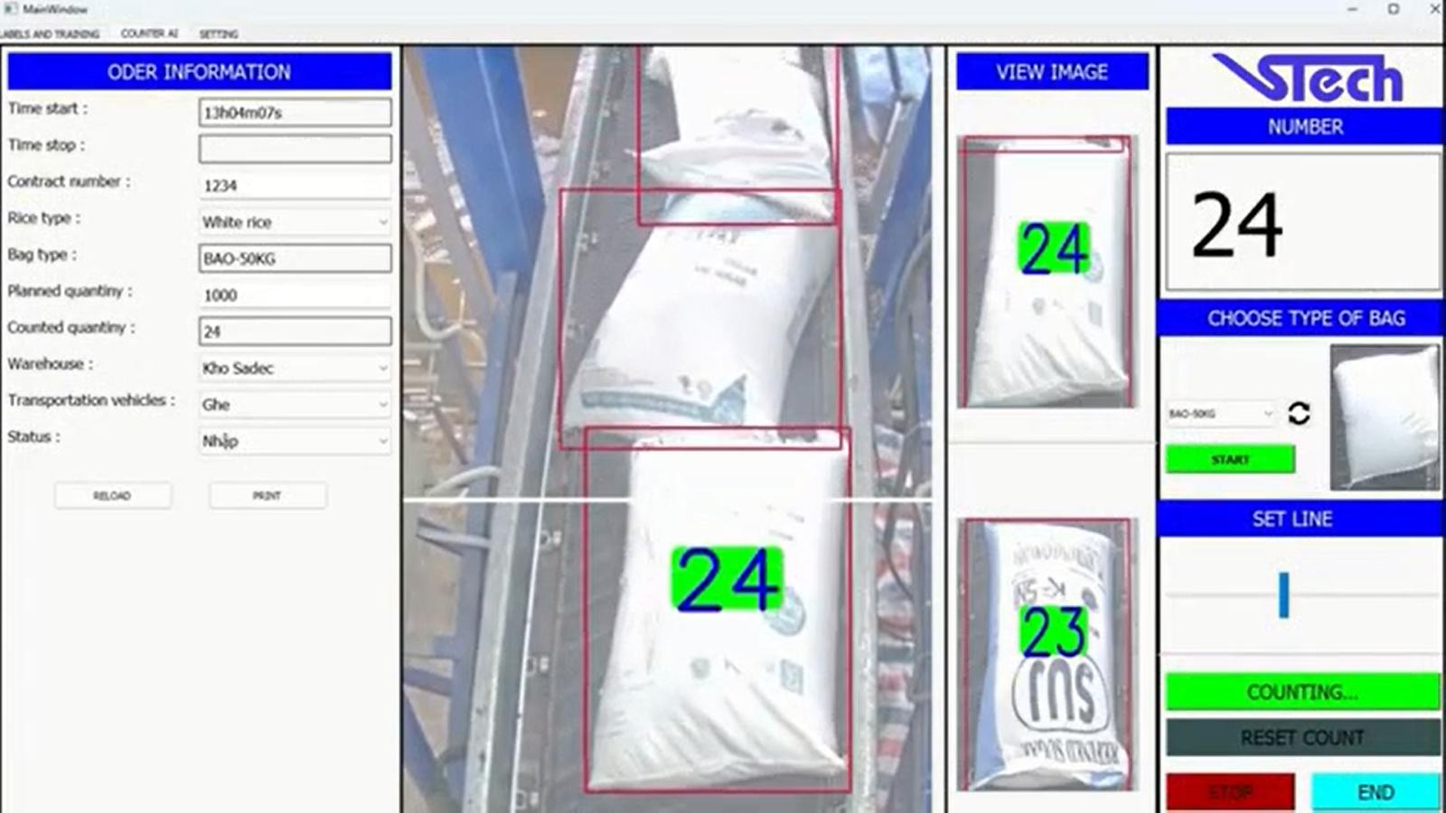rice-bag: (589, 433, 848, 790), (565, 227, 835, 428), (965, 139, 1131, 406), (972, 522, 1129, 789), (641, 47, 832, 216)
